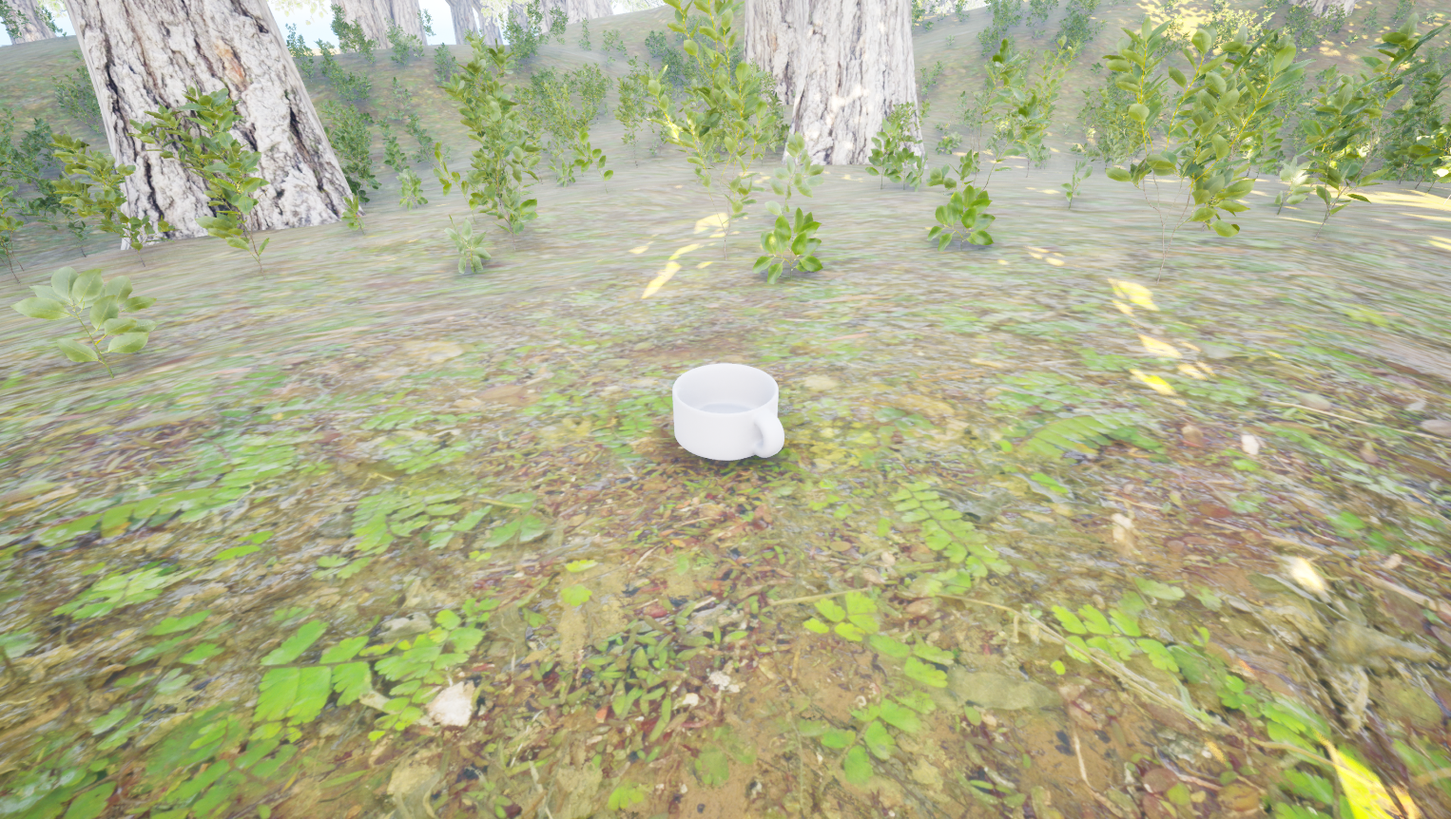Teacup: (671, 361, 791, 474)
